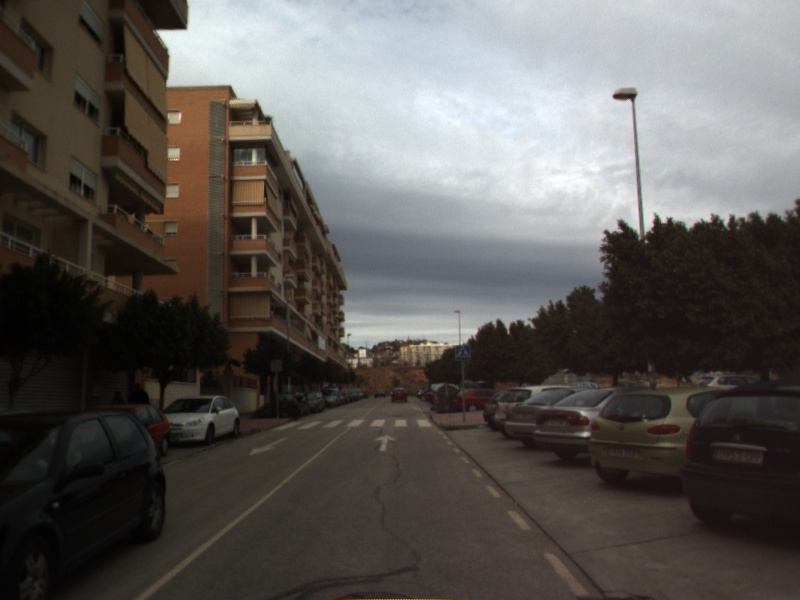STRAIGHT: (372, 433, 399, 453)
